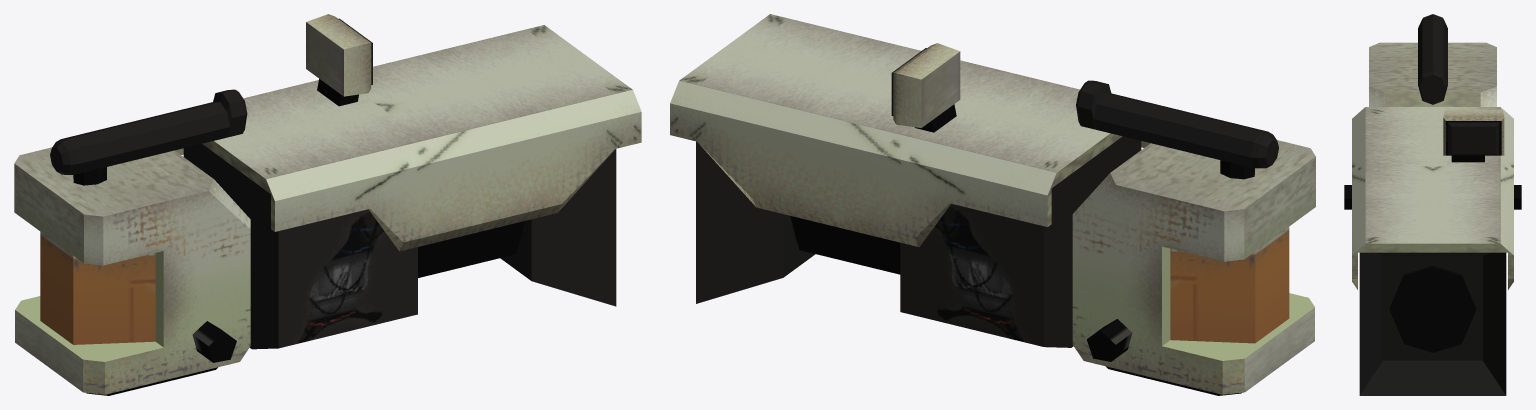
The model's file is CameraHeadfbx.fbx.
3 renders of one model, left to right at view 1: azimuth 30°, elevation 25°; view 2: azimuth 150°, elevation 25°; view 3: azimuth 270°, elevation 25°, orthographic. The views are drawn at different scales.
Parts seen in each view (by area): view 1: Stuff; view 2: Stuff; view 3: Stuff.
Part boxes in pixels (x1,y1,x2,y2): Stuff: [14, 14, 641, 395]; Stuff: [670, 14, 1315, 395]; Stuff: [1344, 14, 1521, 395].
Bounding box in the file's own units: 48.13 × 23.05 × 17.97.
